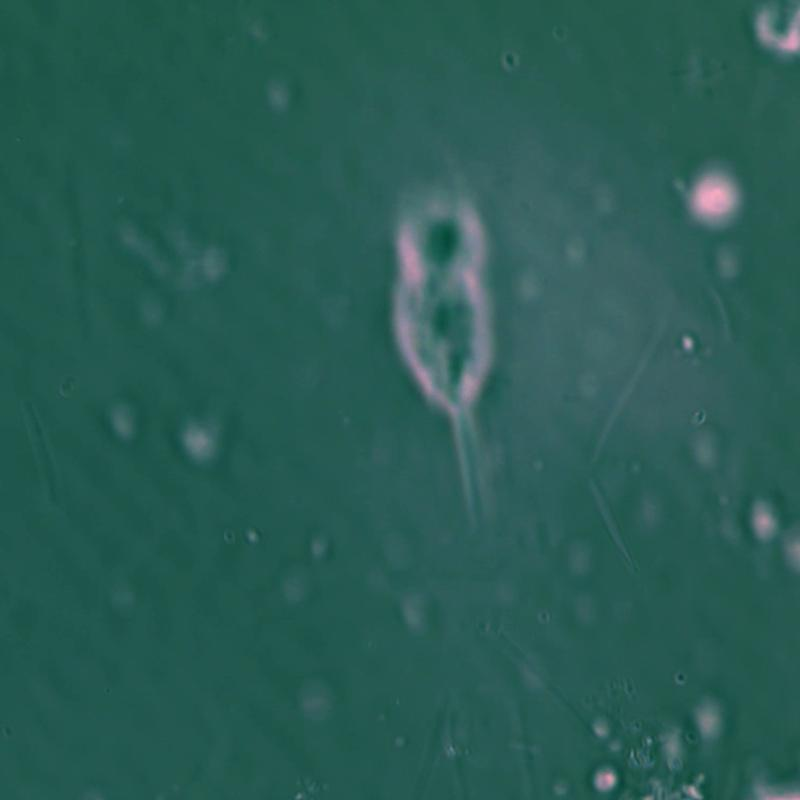depth:80: (373, 164, 560, 522)
